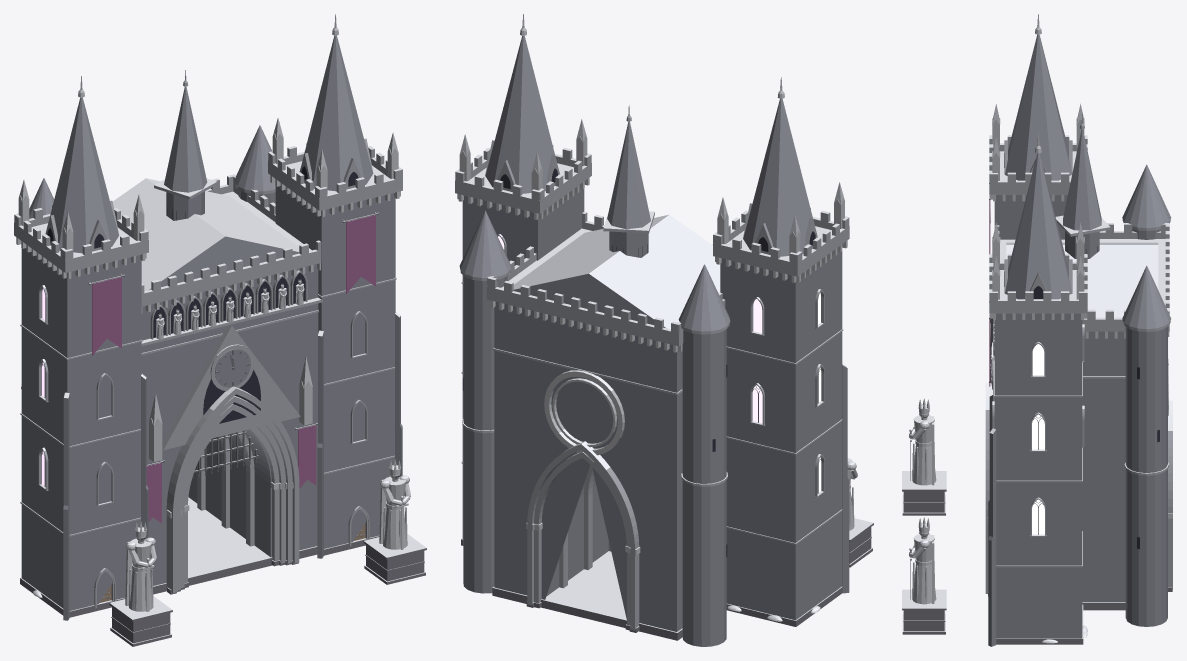
The model's file is AR_Portal_do_Reino.fbx.
3 renders of one model, left to right at view 1: azimuth 30°, elevation 25°; view 2: azimuth 150°, elevation 25°; view 3: azimuth 270°, elevation 25°, orthographic. The views are drawn at different scales.
Visible parts, largest first — view 1: AR_Portal_do_Reino; view 2: AR_Portal_do_Reino; view 3: AR_Portal_do_Reino.
Part boxes in pixels (box(x1,y1,x2,y2)): AR_Portal_do_Reino: box(14, 14, 426, 646); AR_Portal_do_Reino: box(455, 14, 873, 646); AR_Portal_do_Reino: box(902, 14, 1172, 646).
Bounding box in the file's own units: 64.12 × 93.1 × 46.28.
